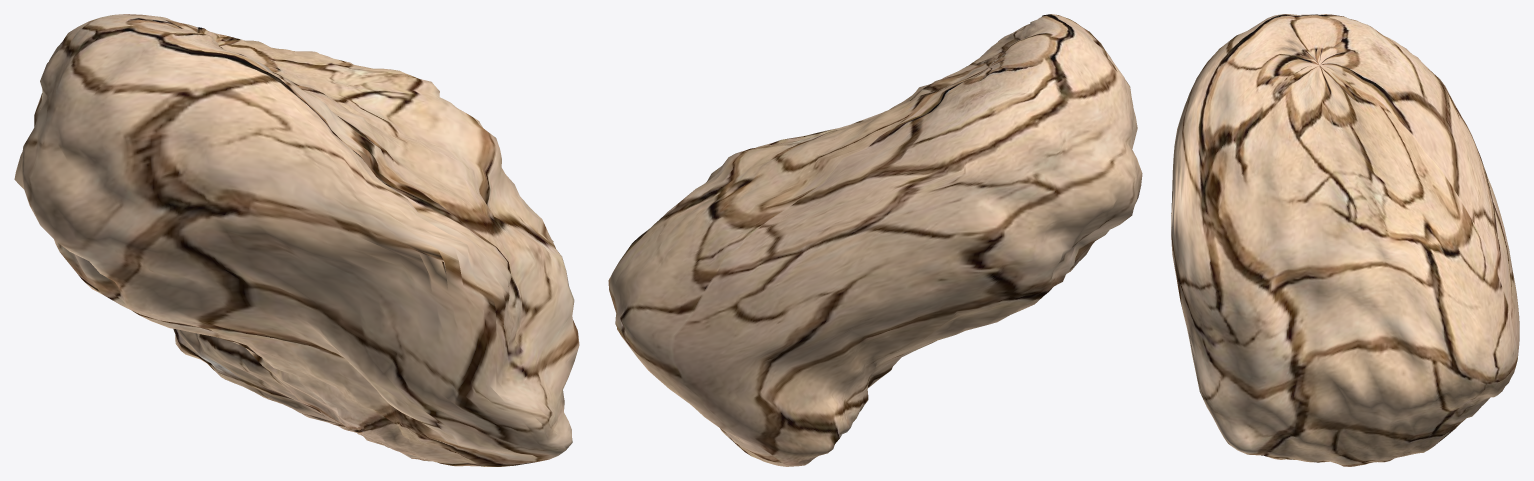
Rendered from asteroid3.FBX.
The picture shows the model from 3 angles, left to right: view 1: azimuth 30°, elevation 25°; view 2: azimuth 150°, elevation 25°; view 3: azimuth 270°, elevation 25°; orthographic projection. The views are drawn at different scales.
Visible parts, largest first — view 1: Sphere01; view 2: Sphere01; view 3: Sphere01.
Boxes of the visible parts, <box> form: Sphere01: <box>14,14,579,466</box>; Sphere01: <box>608,14,1142,466</box>; Sphere01: <box>1171,14,1519,466</box>.
Size of the model in its own units: 95.41 by 77.09 by 85.15.
Materials: 1 (1 with a texture image).
